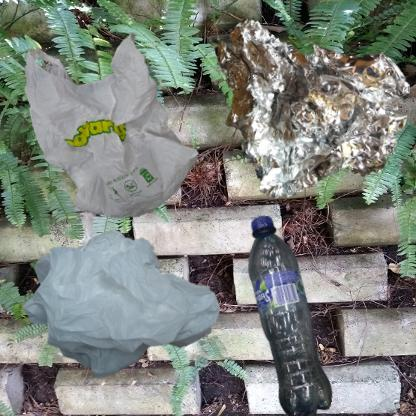aluminio: (213, 10, 416, 203)
bolsa: (10, 10, 228, 259), (10, 213, 249, 416)
botella: (213, 213, 380, 416)
